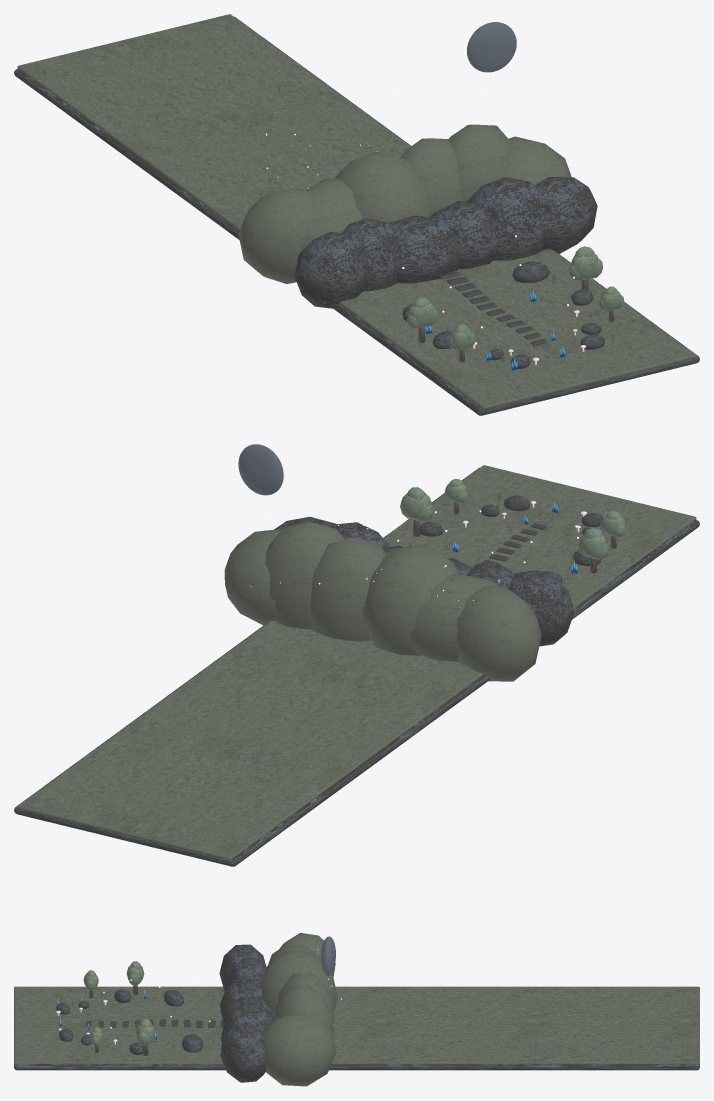
The model's file is dragon-environment.glb.
3 renders of one model, top to bottom at view 1: azimuth 30°, elevation 25°; view 2: azimuth 150°, elevation 25°; view 3: azimuth 270°, elevation 25°, orthographic. The views are drawn at different scales.
Parts seen in each view (by area): view 1: ENV_Ground_Ground_ForestPBR, ENV_Mid_Rock_LichenPBR, ENV_Far_Ground_ForestPBR, ENV_Ground_Rock_LichenPBR, ENV_Near_Leaves_ForestPBR, ENV_Far_Moon_LunarPBR, ENV_Near_Rock_LichenPBR, ENV_Path_Rock_LichenPBR; view 2: ENV_Ground_Ground_ForestPBR, ENV_Far_Ground_ForestPBR, ENV_Ground_Rock_LichenPBR, ENV_Mid_Rock_LichenPBR, ENV_Near_Leaves_ForestPBR, ENV_Far_Moon_LunarPBR, ENV_Near_Rock_LichenPBR; view 3: ENV_Ground_Ground_ForestPBR, ENV_Far_Ground_ForestPBR, ENV_Mid_Rock_LichenPBR, ENV_Ground_Rock_LichenPBR, ENV_Near_Leaves_ForestPBR, ENV_Near_Rock_LichenPBR, ENV_Path_Rock_LichenPBR, ENV_Far_Moon_LunarPBR.
Part boxes in pixels (bbox=[...]): ENV_Ground_Ground_ForestPBR: bbox=[17, 14, 696, 409]; ENV_Mid_Rock_LichenPBR: bbox=[294, 177, 597, 321]; ENV_Far_Ground_ForestPBR: bbox=[238, 124, 571, 283]; ENV_Ground_Rock_LichenPBR: bbox=[14, 16, 699, 415]; ENV_Near_Leaves_ForestPBR: bbox=[407, 246, 624, 350]; ENV_Far_Moon_LunarPBR: bbox=[467, 22, 516, 72]; ENV_Near_Rock_LichenPBR: bbox=[433, 289, 604, 368]; ENV_Path_Rock_LichenPBR: bbox=[440, 270, 547, 345]; ENV_Ground_Ground_ForestPBR: bbox=[17, 465, 696, 860]; ENV_Far_Ground_ForestPBR: bbox=[224, 522, 541, 681]; ENV_Ground_Rock_LichenPBR: bbox=[14, 467, 699, 866]; ENV_Mid_Rock_LichenPBR: bbox=[274, 516, 574, 646]; ENV_Near_Leaves_ForestPBR: bbox=[400, 478, 625, 559]; ENV_Far_Moon_LunarPBR: bbox=[238, 444, 283, 495]; ENV_Near_Rock_LichenPBR: bbox=[420, 495, 603, 566]; ENV_Ground_Ground_ForestPBR: bbox=[14, 986, 699, 1064]; ENV_Far_Ground_ForestPBR: bbox=[260, 933, 337, 1086]; ENV_Mid_Rock_LichenPBR: bbox=[164, 944, 275, 1082]; ENV_Ground_Rock_LichenPBR: bbox=[14, 1064, 699, 1070]; ENV_Near_Leaves_ForestPBR: bbox=[83, 961, 154, 1046]; ENV_Near_Rock_LichenPBR: bbox=[56, 989, 142, 1054]; ENV_Path_Rock_LichenPBR: bbox=[86, 1019, 222, 1028]; ENV_Far_Moon_LunarPBR: bbox=[321, 936, 335, 975].
Bounding box in the file's own units: 18.78 × 11.74 × 48.
10 materials, 8 textured.
